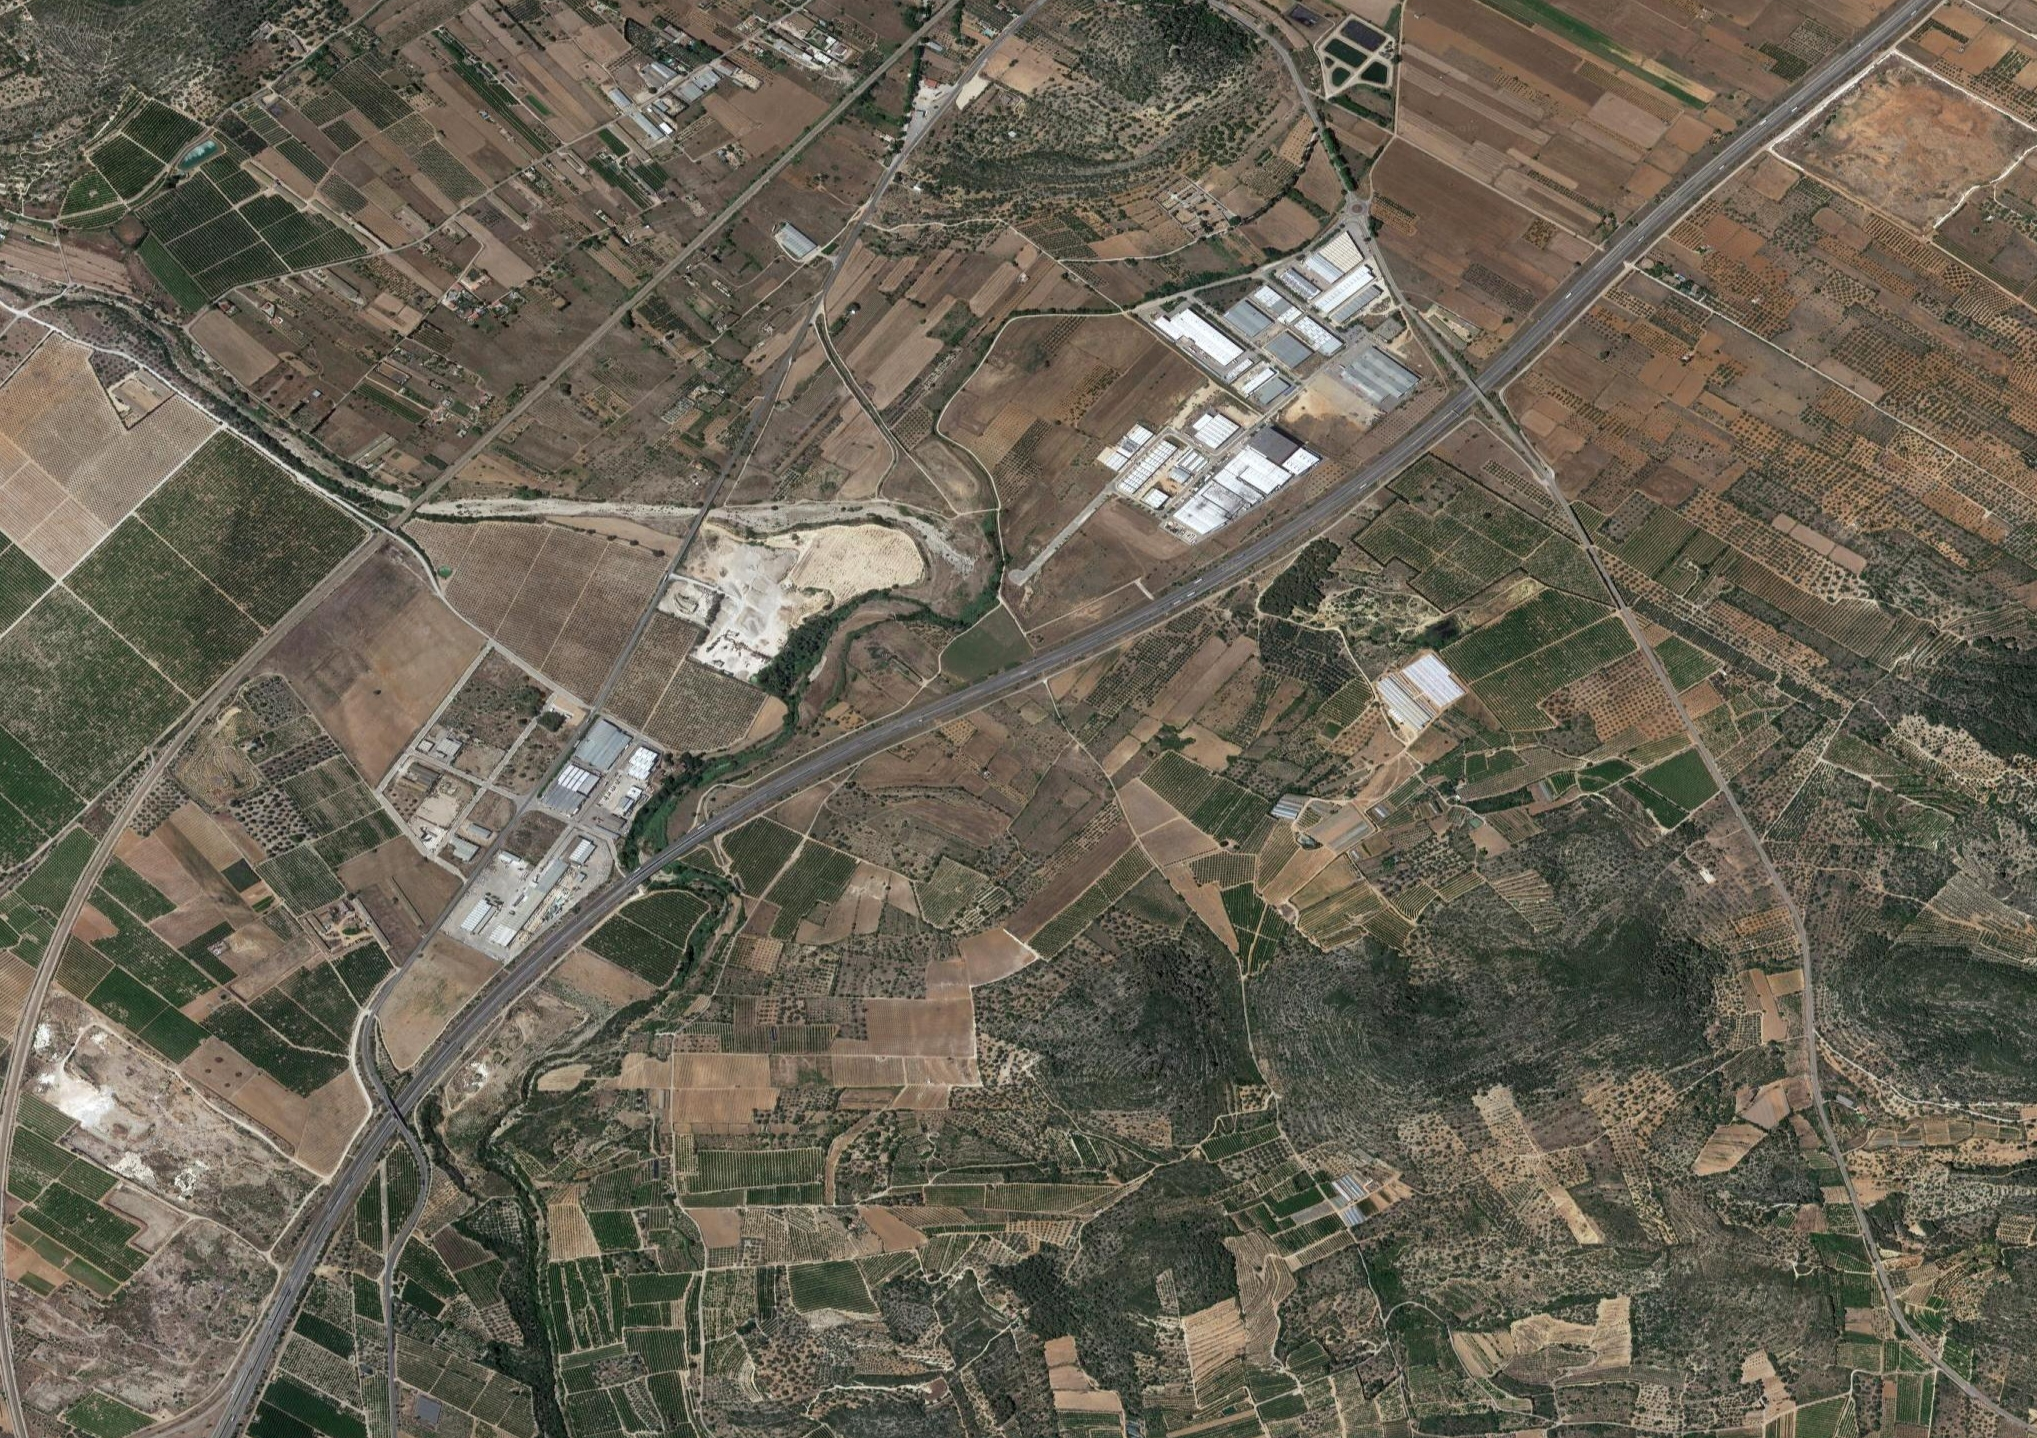bridge: (1446, 353, 1506, 422), (363, 1075, 423, 1142)
industrial: (1117, 230, 1399, 537), (464, 730, 663, 973)
motorway: (1517, 149, 1724, 350), (1724, 2, 1939, 156), (215, 1214, 331, 1438), (1047, 549, 1239, 679), (325, 1027, 454, 1215), (839, 649, 1046, 766), (669, 742, 839, 861), (1373, 349, 1517, 478), (1237, 470, 1369, 565), (458, 931, 563, 1040), (562, 829, 668, 938)
